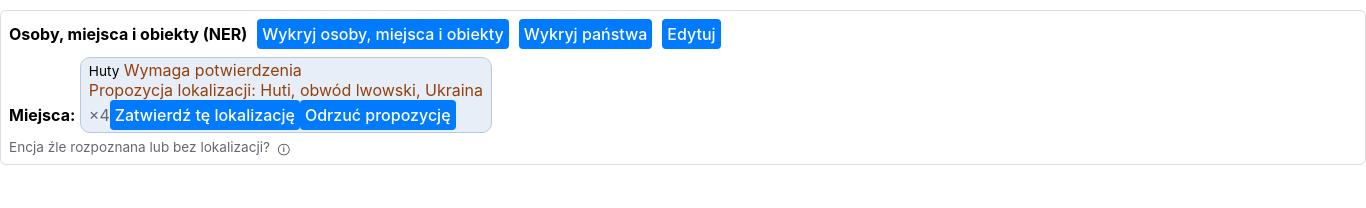
Scenario: rejects a location proposal without editing the name
Click the button "Odrzuć propozycję" at [378, 115], box top-left (300, 100), bottom-right (456, 130)
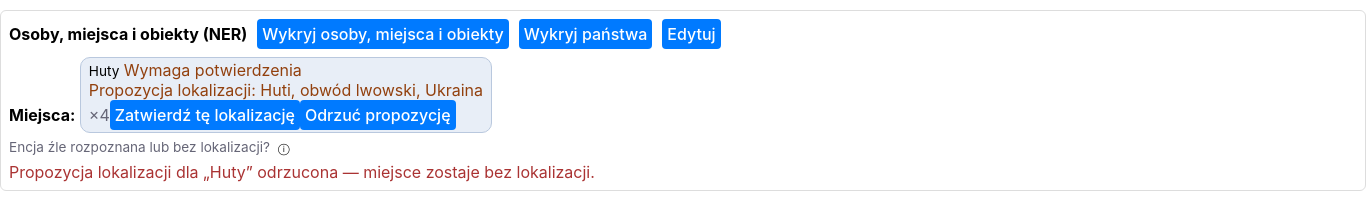
Result: the text "Propozycja lokalizacji dla „Huty” odrzucona" is shown at top-left (9, 162), bottom-right (595, 182)
